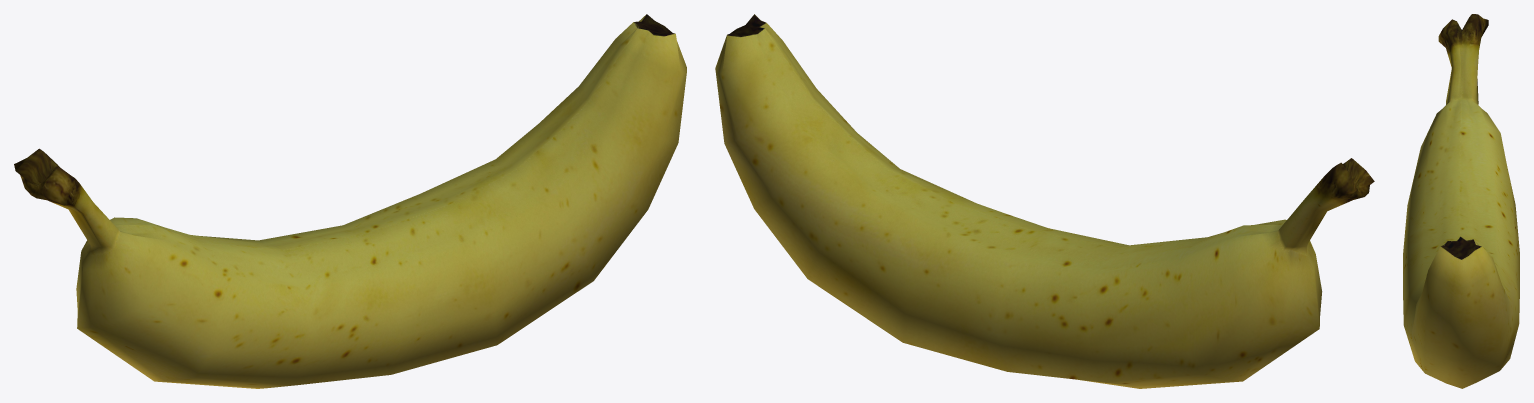
File: A_FruitBanane.fbx
3 renders of one model, left to right at view 1: azimuth 30°, elevation 25°; view 2: azimuth 150°, elevation 25°; view 3: azimuth 270°, elevation 25°, orthographic. The views are drawn at different scales.
Parts seen in each view (by area): view 1: A_FruitBanane_MDL; view 2: A_FruitBanane_MDL; view 3: A_FruitBanane_MDL.
Part boxes in pixels (<box>): A_FruitBanane_MDL: <box>14,14,686,388</box>; A_FruitBanane_MDL: <box>715,14,1374,388</box>; A_FruitBanane_MDL: <box>1403,14,1519,388</box>.
Bounding box in the file's own units: 37.51 × 16.05 × 7.85.
1 material, 1 textured.
